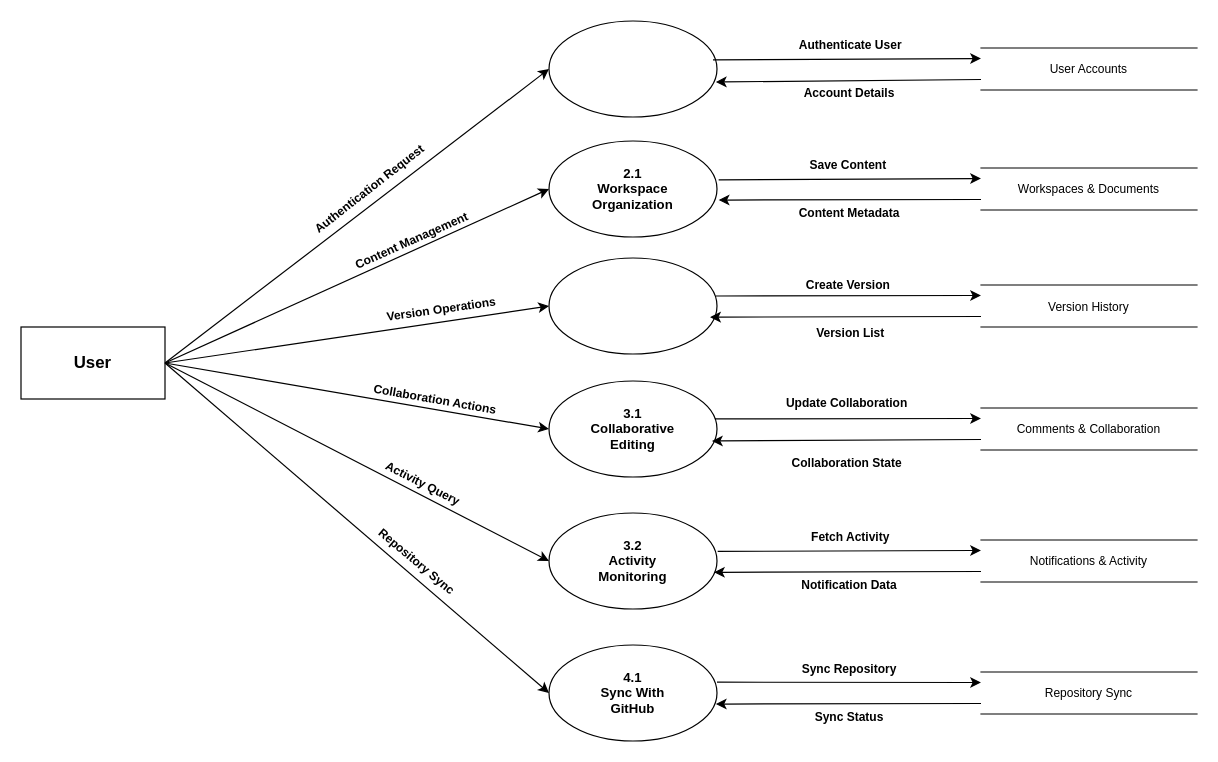
Some shapes in this 1218 by 762 pixel diagram are drawn without their labels. The shapes that lost their labels are listed below. From the top down, each one's centre as x and y in pixels, then its label:
the point at 632,68: 1.1 User Authentication
the point at 632,305: 2.2 Version Control
